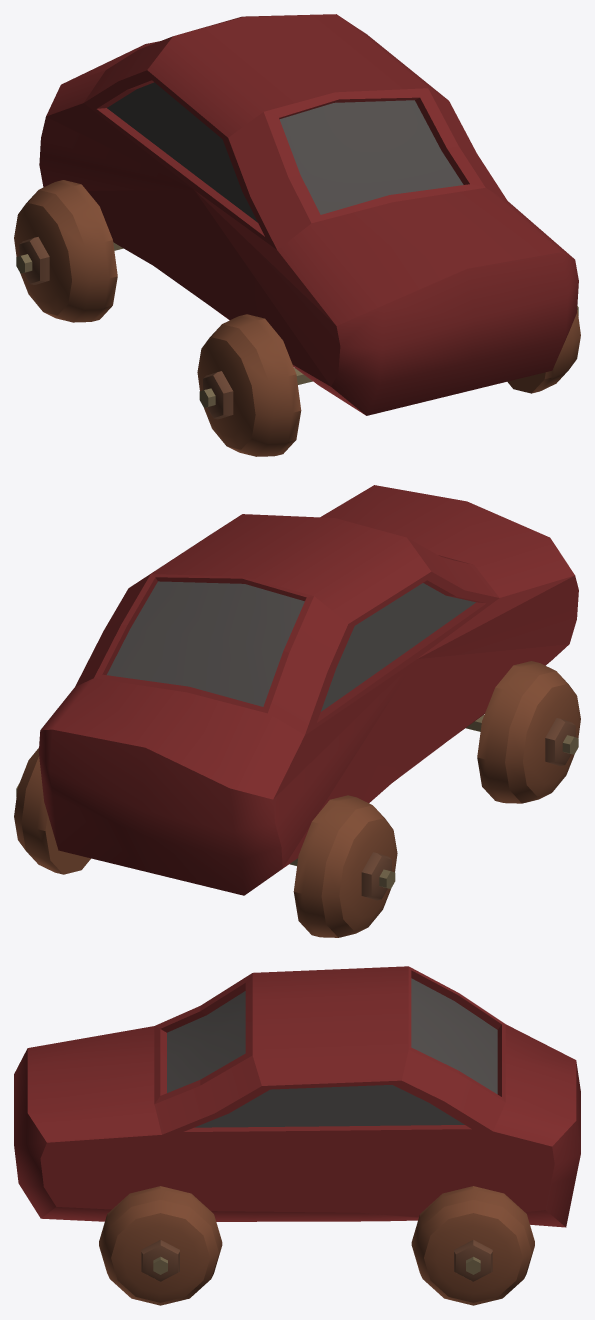
The model's file is P_toy_car_01.fbx.
The picture shows the model from 3 angles, top to bottom: view 1: azimuth 30°, elevation 25°; view 2: azimuth 150°, elevation 25°; view 3: azimuth 270°, elevation 25°; orthographic projection. The views are drawn at different scales.
Visible parts, largest first — view 1: lod1; view 2: lod1; view 3: lod1.
Boxes of the visible parts, left/top/right/bottom form: lod1: left=14, top=14, right=580, bottom=456; lod1: left=14, top=485, right=580, bottom=937; lod1: left=14, top=966, right=580, bottom=1305.
Size of the model in its own units: 24.27 by 18.54 by 37.75.
1 material, 1 textured.
